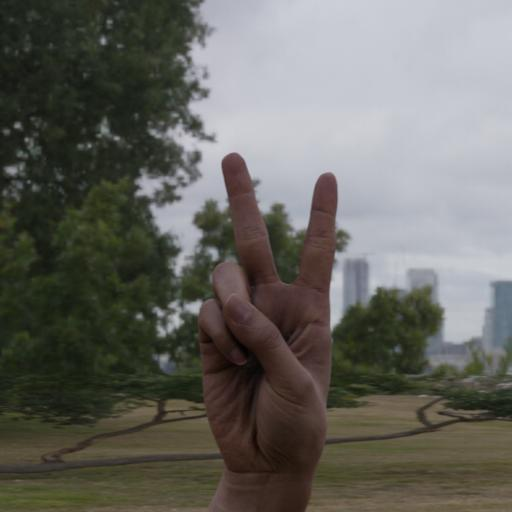V: (197, 147, 340, 472)
